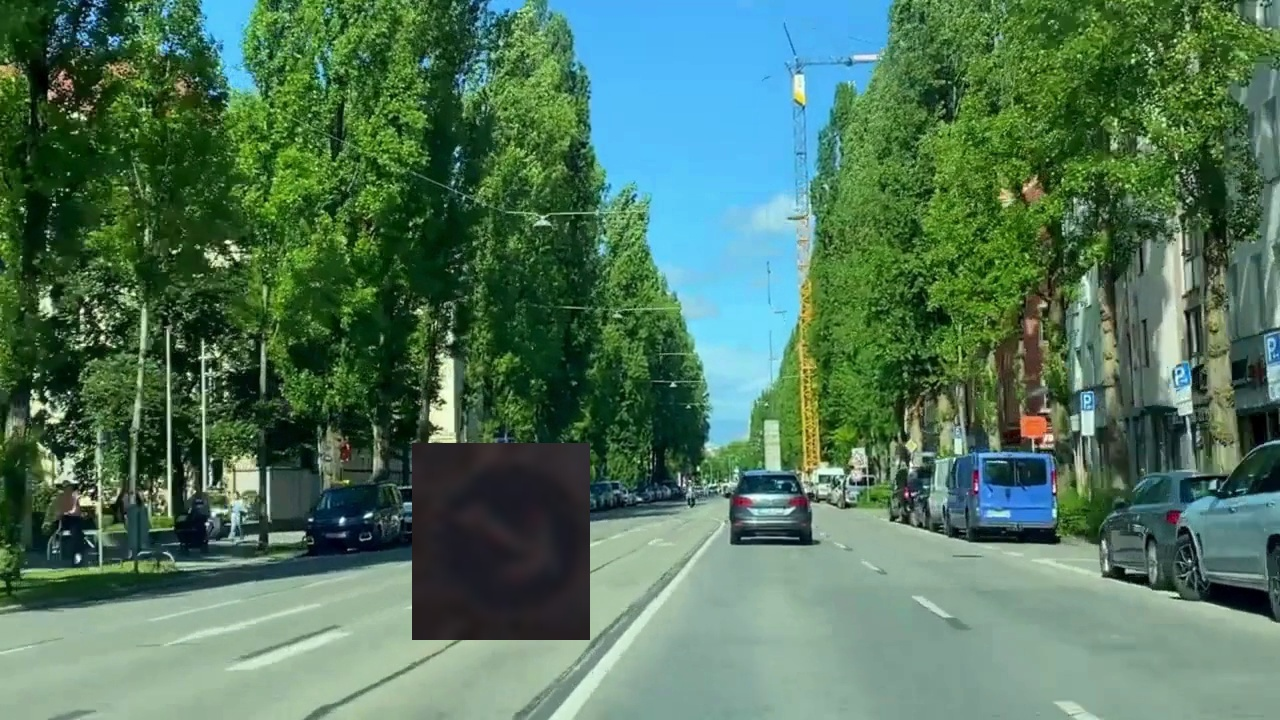Keep right: (412, 443, 590, 640)
